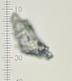microplastic: (10, 13, 54, 60)
